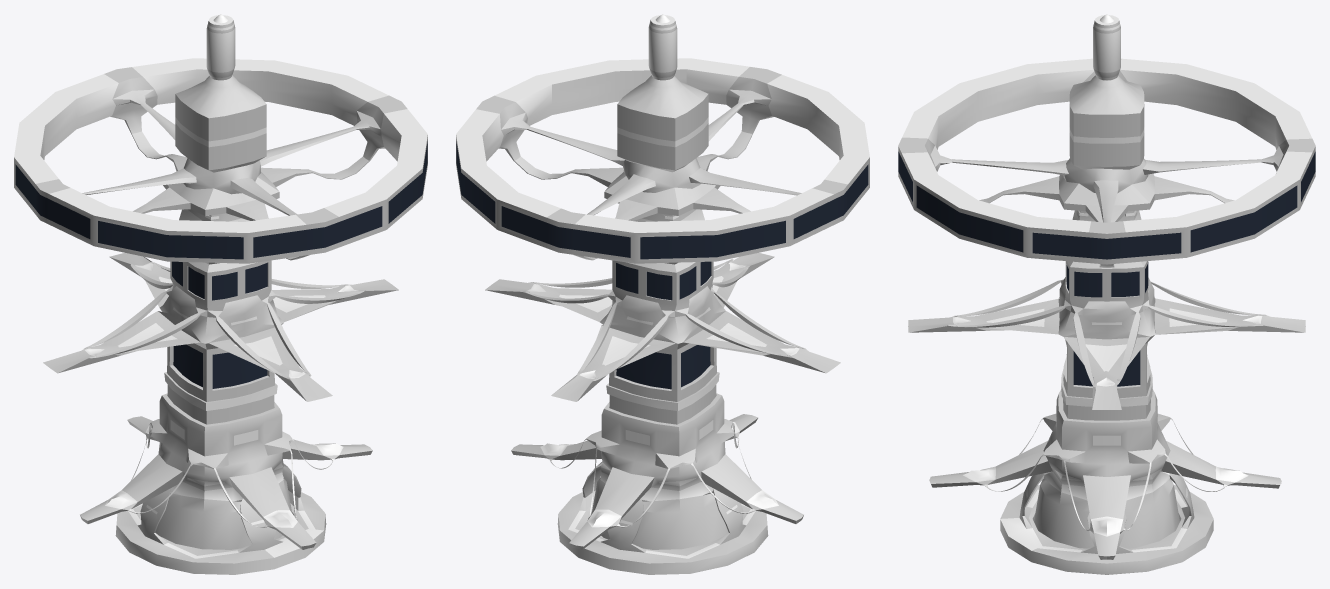
Rendered from sci-fi_communication_tower.glb.
3 views of the same model, side by side, from view 1: azimuth 30°, elevation 25°; view 2: azimuth 150°, elevation 25°; view 3: azimuth 270°, elevation 25° (orthographic).
Visible parts, largest first — view 1: CommunicationTower_2; view 2: CommunicationTower_2; view 3: CommunicationTower_2.
Part boxes in pixels (x1=…): CommunicationTower_2: x1=14, y1=14, x2=427, y2=574; CommunicationTower_2: x1=456, y1=14, x2=869, y2=574; CommunicationTower_2: x1=898, y1=14, x2=1315, y2=574.
Bounding box in the file's own units: 2.07 × 2.83 × 2.07.
9 materials, 1 textured.
